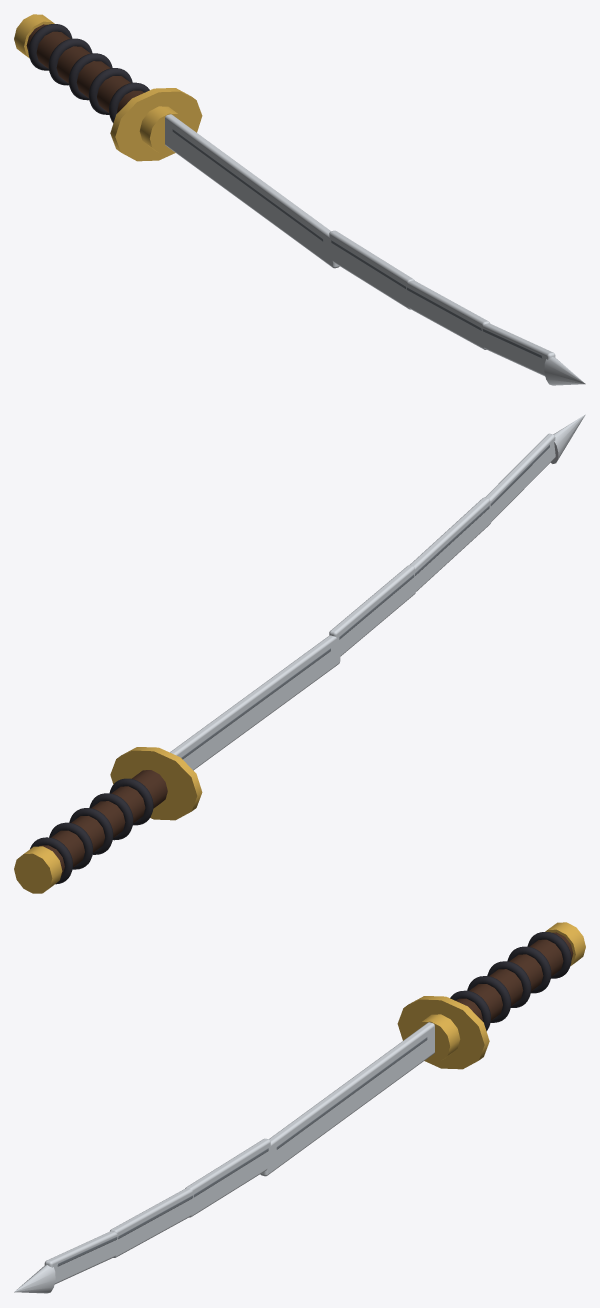
File: kid-knife.glb
3 views of the same model, one above another, from view 1: azimuth 30°, elevation 25°; view 2: azimuth 150°, elevation 25°; view 3: azimuth 330°, elevation 25° (orthographic).
Visible parts, largest first — view 1: kid-knife; view 2: kid-knife; view 3: kid-knife.
Part boxes in pixels (box(x1,y1,x2,y2)): kid-knife: box(14, 14, 585, 385); kid-knife: box(14, 414, 585, 893); kid-knife: box(14, 922, 585, 1293).
Size of the model in its own units: 0.1 by 0.1039 by 1.1.
